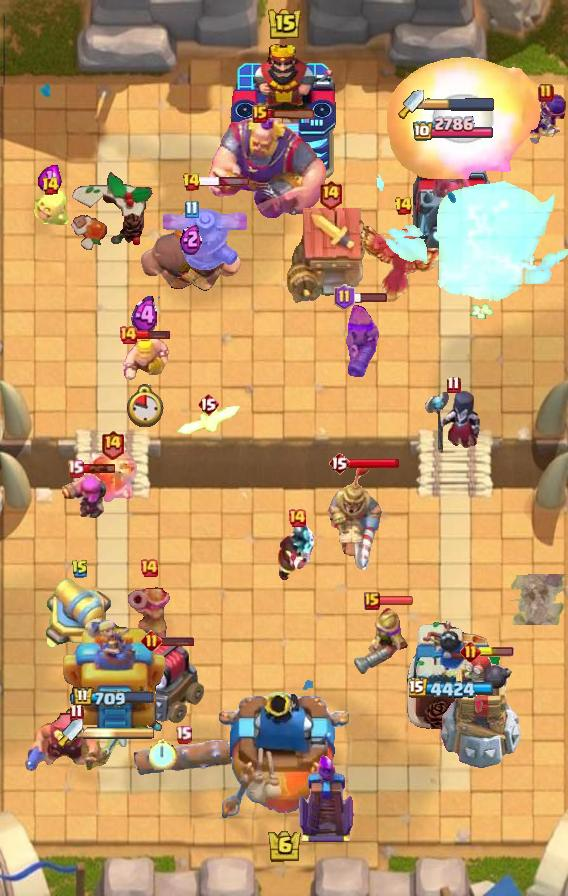archer: (120, 337, 170, 381)
balloon: (138, 208, 244, 298)
bar: (61, 615, 166, 731), (409, 142, 497, 256)
barbarian: (175, 404, 241, 436)
bat-evolution: (30, 188, 70, 226)
bomb-tower: (353, 606, 411, 676), (340, 301, 382, 381), (128, 581, 170, 651)
dark-prince: (161, 184, 251, 270)
electro-spirit: (131, 297, 160, 336), (38, 163, 62, 193), (180, 222, 202, 254)
elixir: (127, 385, 164, 427), (149, 738, 177, 770)
emote: (198, 176, 250, 188), (348, 457, 400, 469), (265, 108, 317, 119), (352, 291, 388, 303), (159, 635, 195, 647), (378, 595, 414, 606), (137, 329, 172, 340), (80, 462, 115, 473), (478, 647, 514, 657)
fireball: (23, 713, 129, 775)
fisherman: (509, 574, 567, 626)
goblin-ball: (508, 92, 568, 148)
golden-knight: (360, 220, 446, 302)
golem: (120, 637, 206, 725)
ice-spirit-evolution-symbol: (296, 752, 356, 844)
king-tower: (219, 692, 349, 826), (230, 41, 338, 181)
king-tower-bar: (424, 97, 496, 111), (83, 726, 155, 740)
lightning: (208, 116, 328, 222)
lumberjack: (274, 523, 320, 583)
mega-knight: (372, 160, 568, 306)
minion: (134, 740, 232, 776)
queen-tower: (404, 617, 502, 731)
ram-rider: (323, 461, 385, 575)
rascal-boy: (424, 386, 482, 456)
royal-recruit: (43, 577, 117, 653)
selected: (413, 116, 496, 143), (410, 678, 499, 701), (72, 686, 156, 710)
skeleton-dragon: (85, 449, 139, 503)
sparky: (287, 207, 373, 305)
text: (318, 179, 343, 210), (99, 429, 124, 460), (334, 284, 355, 310), (197, 392, 219, 416), (328, 451, 350, 475), (142, 630, 163, 651), (460, 642, 481, 663), (118, 325, 138, 345), (287, 508, 307, 528), (139, 558, 159, 578), (182, 172, 201, 192), (40, 176, 59, 196), (395, 196, 414, 216), (71, 559, 89, 579), (67, 458, 85, 477), (176, 724, 193, 743), (538, 83, 554, 103), (252, 105, 268, 123), (364, 592, 380, 610), (447, 374, 462, 393), (185, 201, 199, 219), (69, 703, 83, 721)
tombstone: (58, 468, 110, 522)
valkyrie: (386, 57, 542, 179)
zappy: (440, 651, 524, 773)
